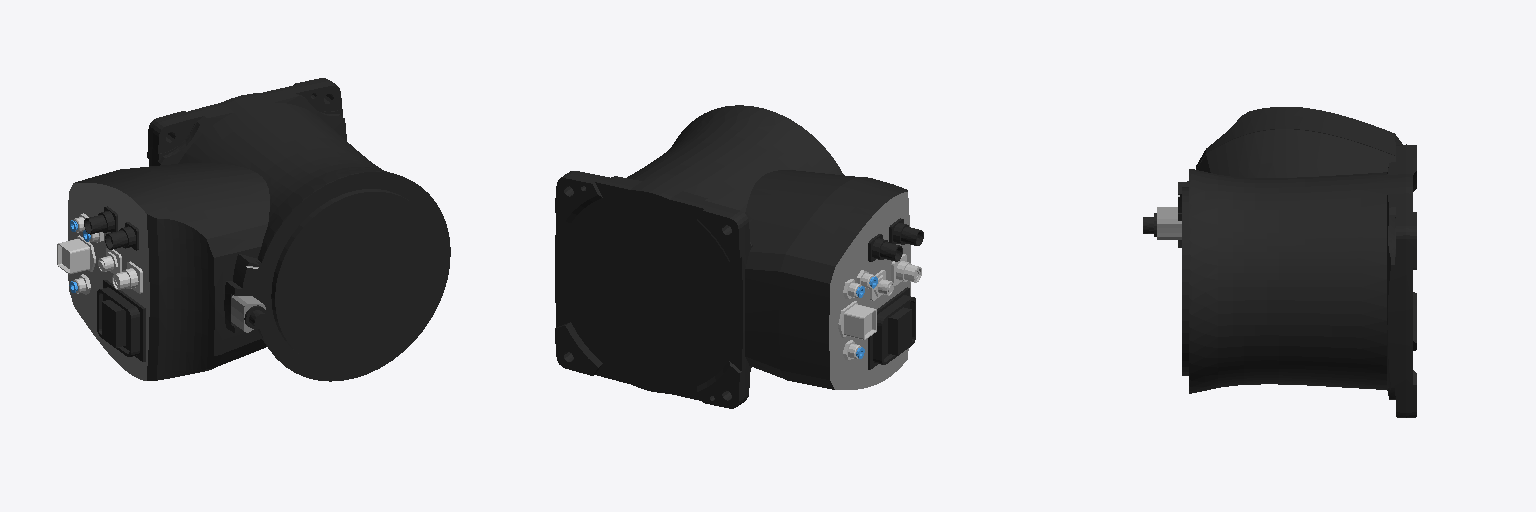
Rendered from kuka_1.obj.
The picture shows the model from 3 angles: view 1: azimuth 30°, elevation 25°; view 2: azimuth 150°, elevation 25°; view 3: azimuth 270°, elevation 25°; orthographic projection.
Visible parts, largest first — view 1: 实体1; view 2: 实体1; view 3: 实体1.
Part boxes in pixels (x1,y1,x2,y2): 实体1: (57, 78, 450, 381); 实体1: (555, 105, 923, 408); 实体1: (1143, 107, 1416, 417).
Bounding box in the file's own units: 328 × 215 × 261.